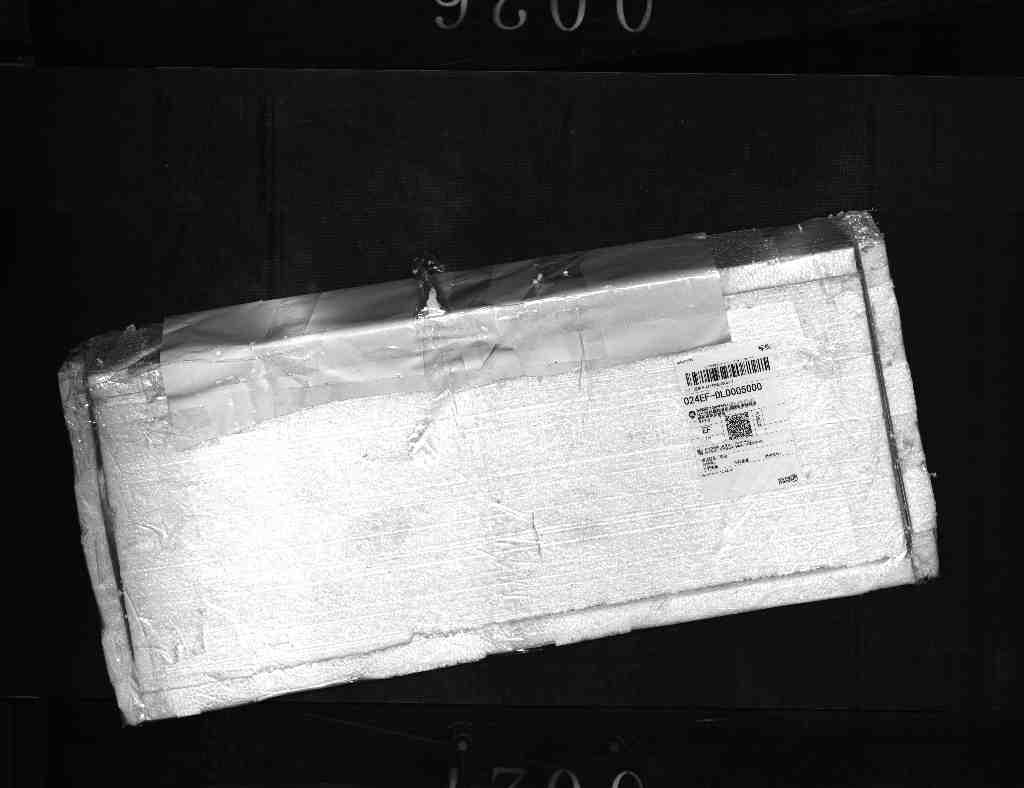box: (56, 225, 951, 736)
